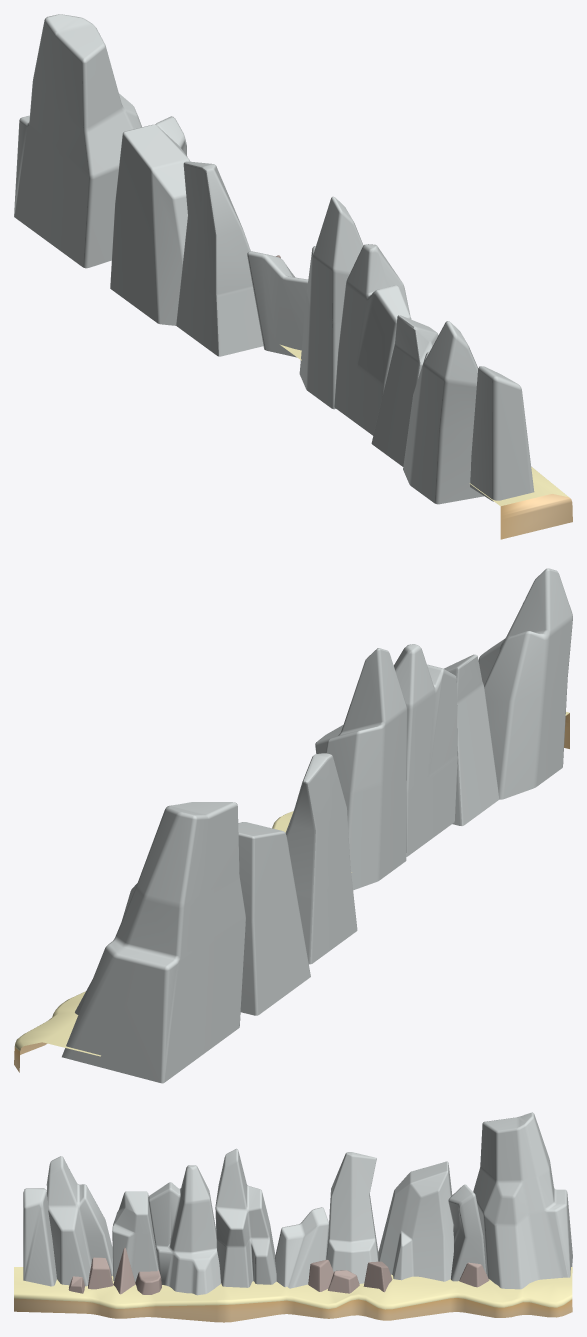
3 views of the same model, one above another, from view 1: azimuth 30°, elevation 25°; view 2: azimuth 150°, elevation 25°; view 3: azimuth 270°, elevation 25° (orthographic). The views are drawn at different scales.
Parts seen in each view (by area): view 1: BG_01; view 2: BG_01; view 3: BG_01.
Boxes of the visible parts, left/top/right/bottom form: BG_01: left=14, top=14, right=572, bottom=539; BG_01: left=14, top=568, right=572, bottom=1083; BG_01: left=14, top=1112, right=572, bottom=1322.
Size of the model in its own units: 8566 by 12195 by 38867.
